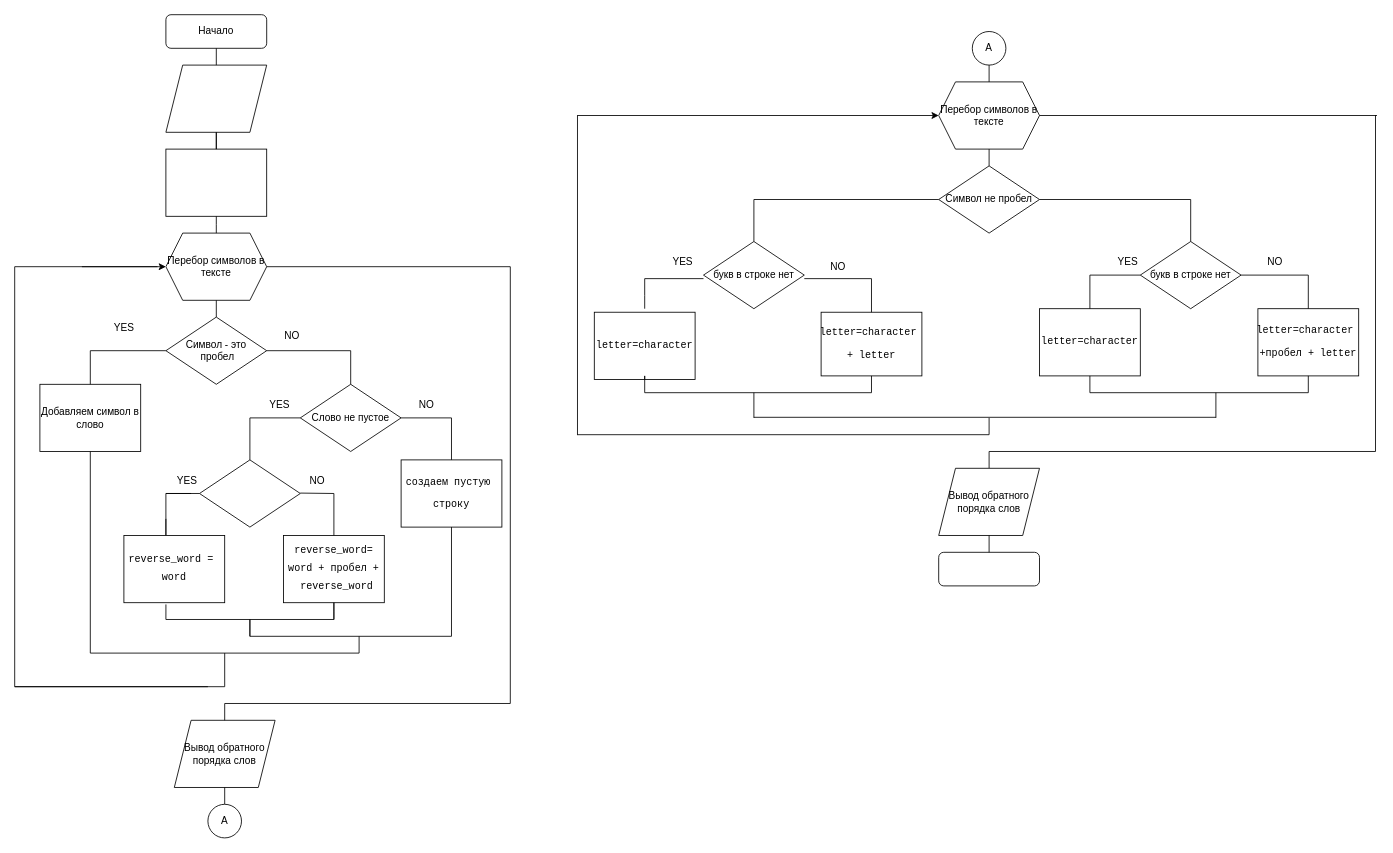
This 1393x853 diagram has some shape labels left out. Here are the shapes that lost their labels. From the top down, the centre of each, then its label:
At point 216,98: "Ввод текста".
At point 216,182: "word= '' reverse_word= '' letter= ''".
At point 249,493: "reverse_word пустое".
At point 989,568: "Конец".
